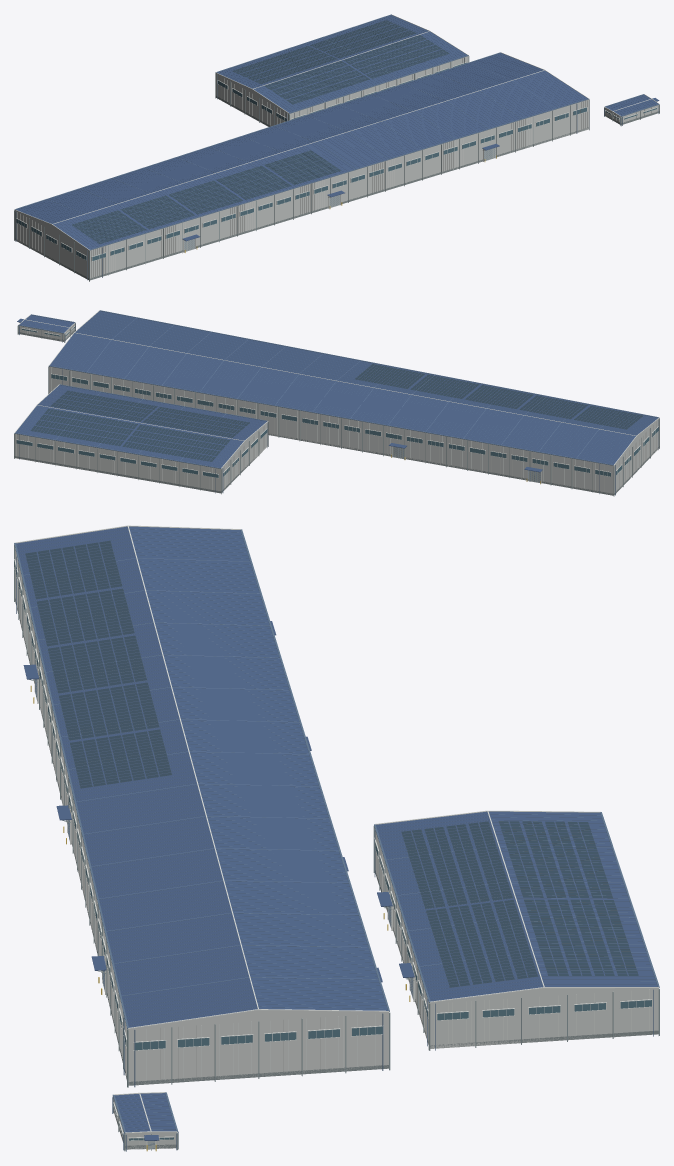
The model's file is buildings.glb.
3 views of the same model, one above another, from view 1: azimuth 30°, elevation 25°; view 2: azimuth 150°, elevation 25°; view 3: azimuth 270°, elevation 25° (orthographic). The views are drawn at different scales.
Visible parts, largest first — view 1: south-warehouse_roof, south-warehouse_wall, northeast-warehouse_roof, northeast-warehouse_pv, south-warehouse_pv, south-warehouse_white, south-warehouse_rib, northeast-warehouse_wall, south-warehouse_glass, northeast-warehouse_pv_frame, south-warehouse_base, south-warehouse_pv_frame (+5 smaller); view 2: south-warehouse_roof, south-warehouse_wall, northeast-warehouse_roof, northeast-warehouse_pv, northeast-warehouse_wall, south-warehouse_pv, south-warehouse_white, south-warehouse_rib, south-warehouse_glass, northeast-warehouse_white, northeast-warehouse_pv_frame, northeast-warehouse_rib (+10 smaller); view 3: south-warehouse_roof, northeast-warehouse_roof, northeast-warehouse_pv, south-warehouse_rib, south-warehouse_pv, south-warehouse_wall, northeast-warehouse_wall, south-warehouse_white, northeast-warehouse_pv_frame, northeast-warehouse_rib, south-warehouse_pv_frame, northeast-warehouse_white (+8 smaller).
Part boxes in pixels (box(x1,y1,x2,y2)): south-warehouse_roof: box(16, 53, 587, 249); south-warehouse_wall: box(14, 99, 588, 278); northeast-warehouse_roof: box(217, 15, 467, 112); northeast-warehouse_pv: box(232, 20, 449, 104); south-warehouse_pv: box(72, 150, 340, 243); south-warehouse_white: box(14, 52, 588, 277); south-warehouse_rib: box(15, 52, 588, 280); northeast-warehouse_wall: box(215, 56, 468, 126); south-warehouse_glass: box(16, 107, 586, 260); northeast-warehouse_pv_frame: box(235, 21, 449, 104); south-warehouse_base: box(15, 127, 588, 280); south-warehouse_pv_frame: box(75, 150, 336, 242); south-warehouse_roof: box(50, 311, 657, 472); south-warehouse_wall: box(49, 366, 659, 495); northeast-warehouse_roof: box(15, 385, 266, 467); northeast-warehouse_pv: box(31, 390, 249, 461); northeast-warehouse_wall: box(14, 422, 267, 492); south-warehouse_pv: box(355, 364, 643, 429); south-warehouse_white: box(49, 310, 659, 491); south-warehouse_rib: box(49, 310, 658, 495); south-warehouse_glass: box(51, 374, 658, 476); northeast-warehouse_white: box(14, 384, 268, 489); northeast-warehouse_pv_frame: box(30, 392, 249, 460); northeast-warehouse_rib: box(14, 384, 267, 493); south-warehouse_roof: box(16, 526, 387, 1027); northeast-warehouse_roof: box(376, 811, 657, 1001); northeast-warehouse_pv: box(401, 821, 638, 987); south-warehouse_rib: box(14, 529, 389, 1087); south-warehouse_pv: box(25, 541, 171, 788); south-warehouse_wall: box(15, 550, 389, 1085); northeast-warehouse_wall: box(374, 828, 658, 1048); south-warehouse_white: box(14, 525, 389, 1080); northeast-warehouse_pv_frame: box(402, 821, 637, 987); northeast-warehouse_rib: box(374, 812, 659, 1050); south-warehouse_pv_frame: box(25, 540, 170, 788); northeast-warehouse_white: box(374, 810, 658, 1044).
Size of the model in its own units: 234 by 13.31 by 112.
